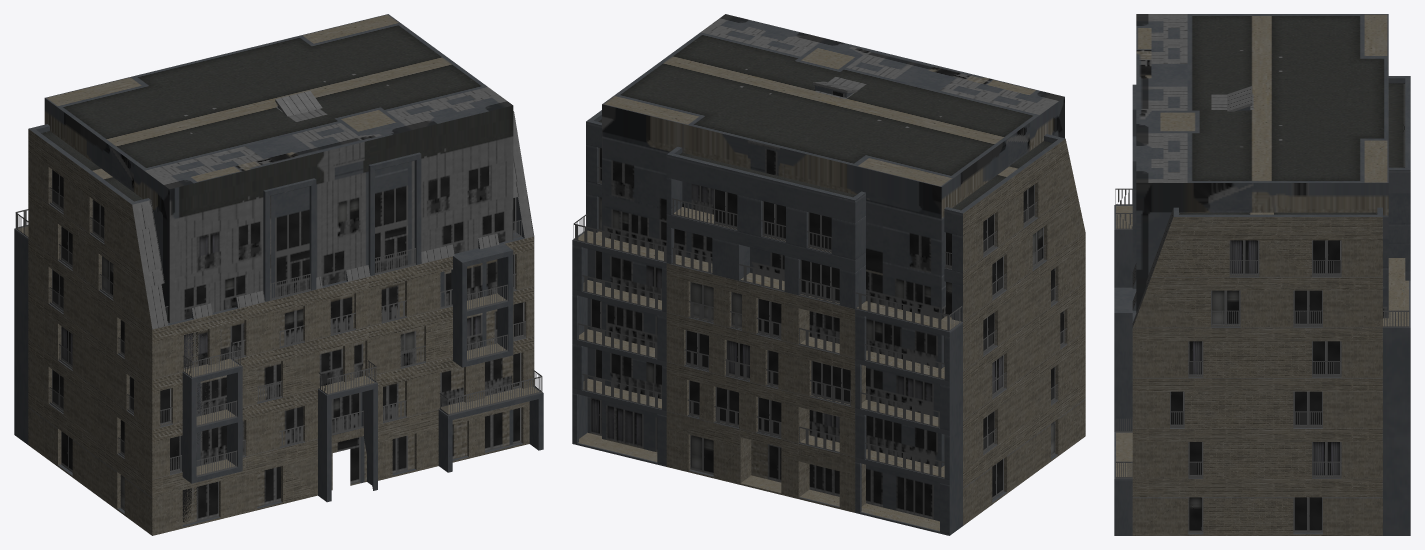
File: lg_midrise_flats.fbx
The picture shows the model from 3 angles, left to right: view 1: azimuth 30°, elevation 25°; view 2: azimuth 150°, elevation 25°; view 3: azimuth 270°, elevation 25°; orthographic projection. The views are drawn at different scales.
Visible parts, largest first — view 1: lg_midrise_flats_LOD0; view 2: lg_midrise_flats_LOD0; view 3: lg_midrise_flats_LOD0.
Boxes of the visible parts, box(x1,y1,x2,y2) form: lg_midrise_flats_LOD0: box(14, 14, 543, 535); lg_midrise_flats_LOD0: box(572, 14, 1085, 535); lg_midrise_flats_LOD0: box(1114, 14, 1410, 535).
Size of what is drawn, in the model's own units: 24 by 20.95 by 16.
